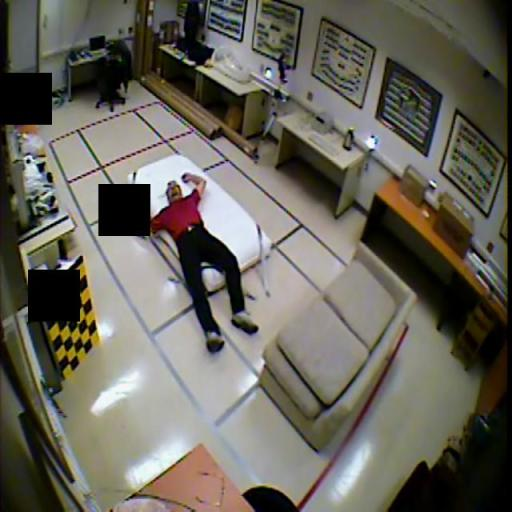Fall: (120, 172, 259, 354)
